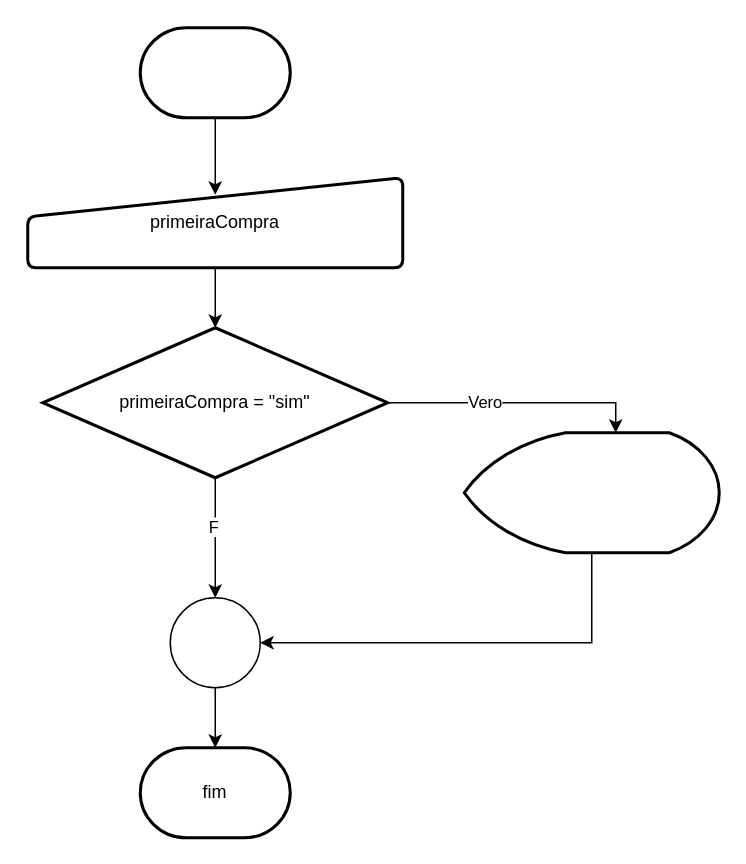
This 746x864 diagram has some shape labels left out. The shapes that lost their labels are listed below. From the top down, each one's centre as x and y in pixels, then its label:
pixel 214 72: início
pixel 591 492: "Desconto aplicado"
